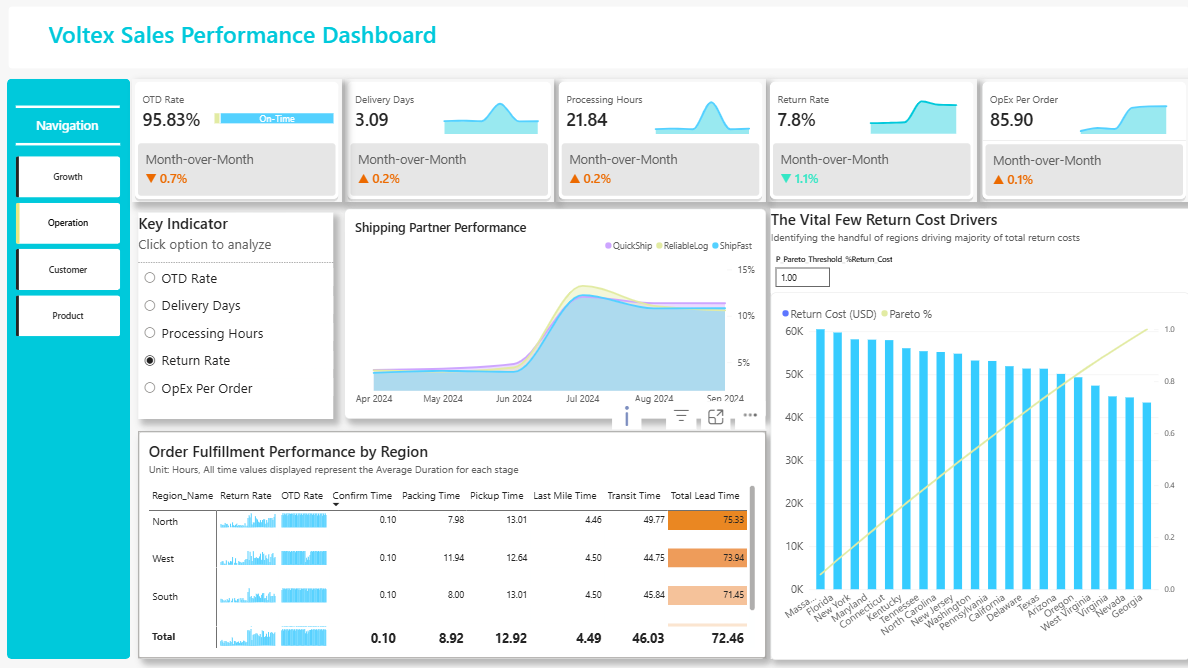

The page's visual inventory and layout, read from the dashboard file:
{"tool":"powerbi","page":{"name":"Operation","canvas":[1920,1080],"ordinal":1},"visuals":[{"type":"shape","box":[15.7,134.7,197.1,928.6],"z":0},{"type":"shape","box":[17.9,17.9,1889.7,100],"z":1000},{"type":"pageNavigator","box":[30,258.6,167.1,291.4],"z":2000},{"type":"cardVisual","fields":{"Data":["*Measure.M_OTD_Rate"]},"box":[215.8,134.7,335.9,197.4],"z":3000,"group":"g5"},{"type":"shape","box":[30,158.3,166.7,41.7],"z":3000},{"type":"shape","box":[30,217.1,167.1,41.4],"z":4000},{"type":"cardVisual","fields":{"Data":["*Measure.M_Delivery_Days"]},"box":[555.4,134.7,335.9,197.4],"z":5000,"group":"g1"},{"type":"actionButton","title":"Navigation","box":[40,194.3,144.3,40],"z":5000},{"type":"actionButton","box":[0,5.7,715.7,112.9],"z":6000},{"type":"cardVisual","fields":{"Data":["*Measure.M_Processing_Hours"]},"box":[894.2,134.7,335.9,197.4],"z":6000,"group":"g2"},{"type":"group","id":"g1","title":"Group 3","box":[555.4,134.7,335.9,197.4],"z":7000},{"type":"cardVisual","fields":{"Data":["*Measure.M_Return_Rate"]},"box":[1233,134.7,335.9,197.4],"z":7000,"group":"g3"},{"type":"group","id":"g2","title":"Group 4","box":[894.2,134.7,335.9,197.4],"z":8000},{"type":"cardVisual","fields":{"Data":["*Measure.M_OpEx_Per_Order"]},"box":[1571.8,134.7,335.9,197.4],"z":8000,"group":"g4"},{"type":"group","id":"g3","title":"Group 5","box":[1233,134.7,335.9,197.4],"z":9000},{"type":"group","id":"g4","title":"Group 6","box":[1571.8,134.7,335.9,197.4],"z":10000},{"type":"group","id":"g5","title":"Group 2","box":[215.8,134.7,336.7,196.7],"z":11000},{"type":"slicer","title":"Key Indicator","fields":{"Values":["P_Operations_KPI.P_Operations_KPI"]},"box":[226,348,312,330],"z":12000},{"type":"lineChart","title":"Shipping Partner Performance","fields":{"Category":["dim_calendar.StartOfMonth.Variation.Date Hierarchy.Year","dim_calendar.StartOfMonth.Variation.Date Hierarchy.Month"],"Series":["dim_shipping.Shipping_Partner"],"Y2":["*Measure.M_Return_Rate"]},"box":[556,342,674,336],"z":13000},{"type":"pivotTable","title":"Order Fulfillment Performance by Region","fields":{"Rows":["dim_region.Region_Name"],"Values":["SparklineData(*Measure.M_Return_Rate_[dim_calendar.Date])","SparklineData(*Measure.M_OTD_Rate_[dim_calendar.Date])","*Measure.M_Confirm_Time","*Measure.M_Packing_Time","*Measure.M_Pickup_Time","*Measure.M_Last_Mile_Time","*Measure.M_Transit_Time","*Measure.M_Total_Lead_Time"]},"box":[226,698,1004,364],"z":14000},{"type":"hundredPercentStackedBarChart","fields":{"Series":["fact_order.delivery_status"],"Y":["*Measure.M_Total_Orders"]},"box":[332.5,127.5,222.5,135],"z":15000},{"type":"shape","box":[1237.5,342.5,670,720],"z":16000},{"type":"stackedAreaChart","fields":{"Category":["dim_calender.StartOfMonth.Variation.Date Hierarchy.Year","dim_calender.StartOfMonth.Variation.Date Hierarchy.Quarter","dim_calender.StartOfMonth.Variation.Date Hierarchy.Month","dim_calender.StartOfMonth.Variation.Date Hierarchy.Day"],"Y":["*Measure.M_Delivery_Days"]},"box":[690,135,201.2,102.5],"z":17000},{"type":"slicer","title":"The Vital Few Return Cost Drivers","fields":{"Values":["P_Pareto_Threshold_%Return_Cost.P_Pareto_Threshold_%Return_Cost"]},"box":[1238.3,341.7,668.3,133.3],"z":18000},{"type":"lineClusteredColumnComboChart","title":"The Vital Few Return Cost Drivers","fields":{"Category":["dim_region.Region_State"],"Y":["*Measure.M_Return_Cost"],"Y2":["*Measure.Pareto % (Return Cost by State)"]},"box":[1238.3,475,670,588.3],"z":19000},{"type":"stackedAreaChart","fields":{"Category":["dim_calender.StartOfMonth.Variation.Date Hierarchy.Year","dim_calender.StartOfMonth.Variation.Date Hierarchy.Quarter","dim_calender.StartOfMonth.Variation.Date Hierarchy.Month","dim_calender.StartOfMonth.Variation.Date Hierarchy.Day"],"Y":["*Measure.M_Processing_Hours"]},"box":[1028.8,135,201.2,102.5],"z":20000},{"type":"stackedAreaChart","fields":{"Category":["dim_calender.StartOfMonth.Variation.Date Hierarchy.Year","dim_calender.StartOfMonth.Variation.Date Hierarchy.Quarter","dim_calender.StartOfMonth.Variation.Date Hierarchy.Month","dim_calender.StartOfMonth.Variation.Date Hierarchy.Day"],"Y":["*Measure.M_Return_Rate"]},"box":[1371.2,135,188.8,102.5],"z":21000},{"type":"stackedAreaChart","fields":{"Category":["dim_calender.StartOfMonth.Variation.Date Hierarchy.Year","dim_calender.StartOfMonth.Variation.Date Hierarchy.Quarter","dim_calender.StartOfMonth.Variation.Date Hierarchy.Month","dim_calender.StartOfMonth.Variation.Date Hierarchy.Day"],"Y":["*Measure.M_OpEx_Per_Order"]},"box":[1708.8,135,188.8,102.5],"z":22000}]}

Visuals, with their boxes in screenshot pixels (x1, y1, x2, y2), scaled from the page's 1920x1080 canvas onto the 1188x668 screenshot:
shape: box(10, 83, 132, 658)
shape: box(11, 11, 1180, 73)
pageNavigator: box(19, 160, 122, 340)
cardVisual - *Measure.M_OTD_Rate: box(134, 83, 341, 205)
shape: box(19, 98, 122, 124)
shape: box(19, 134, 122, 160)
cardVisual - *Measure.M_Delivery_Days: box(344, 83, 551, 205)
"Navigation" actionButton: box(25, 120, 114, 145)
actionButton: box(0, 4, 443, 73)
cardVisual - *Measure.M_Processing_Hours: box(553, 83, 761, 205)
"Group 3" group: box(344, 83, 551, 205)
cardVisual - *Measure.M_Return_Rate: box(763, 83, 971, 205)
"Group 4" group: box(553, 83, 761, 205)
cardVisual - *Measure.M_OpEx_Per_Order: box(973, 83, 1180, 205)
"Group 5" group: box(763, 83, 971, 205)
"Group 6" group: box(973, 83, 1180, 205)
"Group 2" group: box(134, 83, 342, 205)
"Key Indicator" slicer: box(140, 215, 333, 419)
"Shipping Partner Performance" lineChart: box(344, 212, 761, 419)
"Order Fulfillment Performance by Region" pivotTable: box(140, 432, 761, 657)
hundredPercentStackedBarChart - fact_order.delivery_status x *Measure.M_Total_Orders: box(206, 79, 343, 162)
shape: box(766, 212, 1180, 657)
stackedAreaChart - dim_calender.StartOfMonth.Variation.Date Hierarchy.Year x dim_calender.StartOfMonth.Variation.Date Hierarchy.Quarter: box(427, 84, 551, 147)
"The Vital Few Return Cost Drivers" slicer: box(766, 211, 1180, 294)
"The Vital Few Return Cost Drivers" lineClusteredColumnComboChart: box(766, 294, 1181, 658)
stackedAreaChart - dim_calender.StartOfMonth.Variation.Date Hierarchy.Year x dim_calender.StartOfMonth.Variation.Date Hierarchy.Quarter: box(637, 84, 761, 147)
stackedAreaChart - dim_calender.StartOfMonth.Variation.Date Hierarchy.Year x dim_calender.StartOfMonth.Variation.Date Hierarchy.Quarter: box(848, 84, 965, 147)
stackedAreaChart - dim_calender.StartOfMonth.Variation.Date Hierarchy.Year x dim_calender.StartOfMonth.Variation.Date Hierarchy.Quarter: box(1057, 84, 1174, 147)
